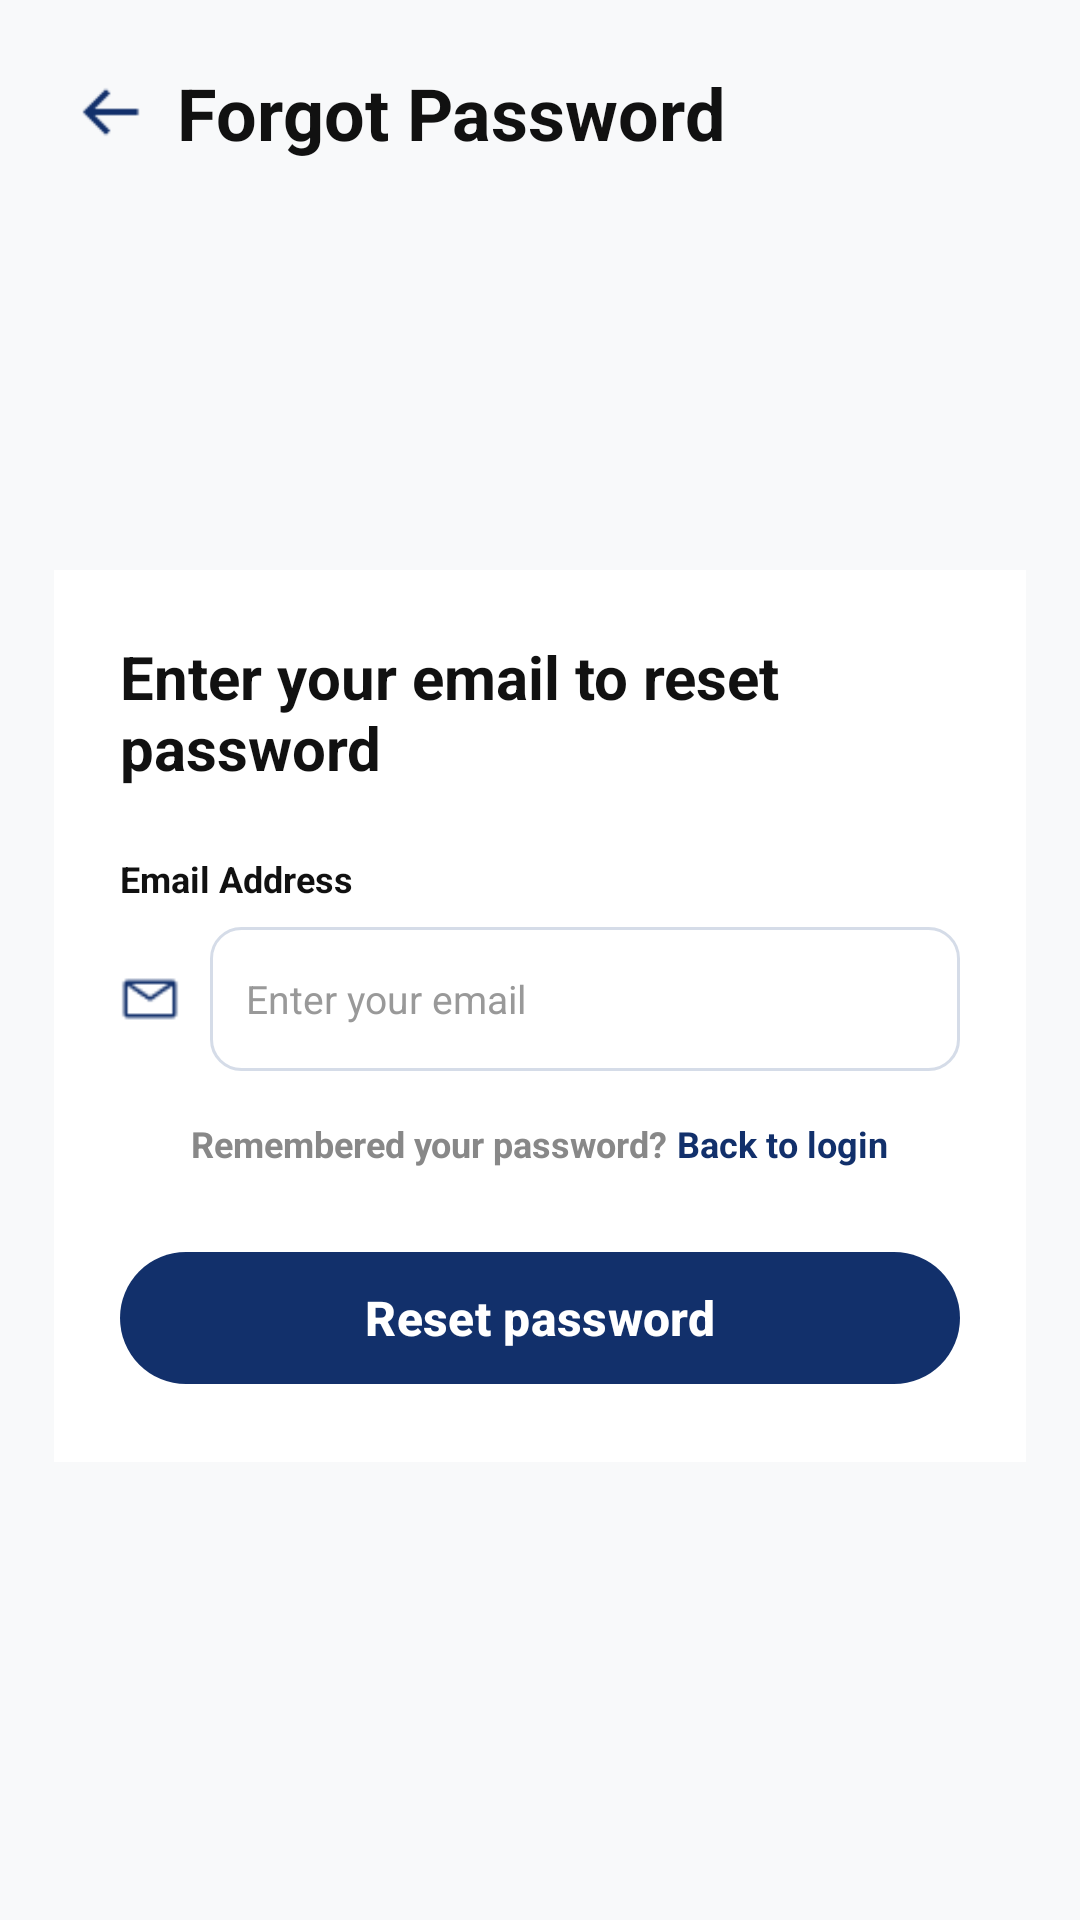

Named icons in this screenshot (1080×1920) and their bounding boxes, [x1=x1, y1=y1, x2=x2, y2=y2]:
back arrow: [x1=83, y1=88, x2=139, y2=136]
